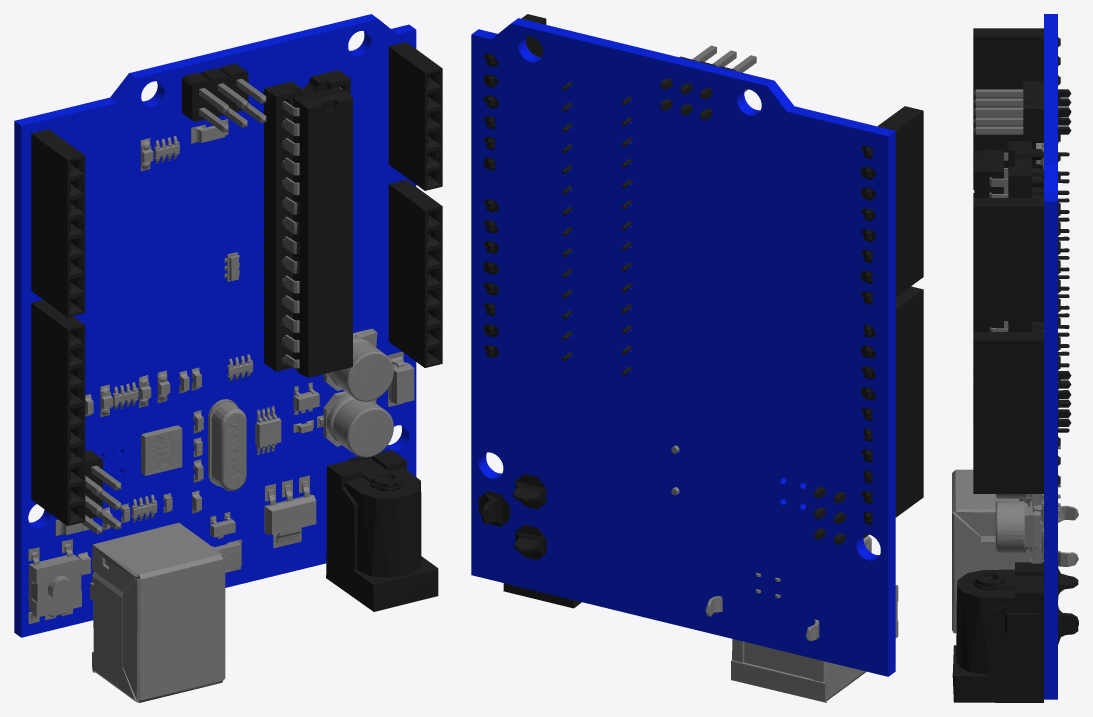
File: arduino.glb
3 views of the same model, side by side, from view 1: azimuth 30°, elevation 25°; view 2: azimuth 150°, elevation 25°; view 3: azimuth 270°, elevation 25° (orthographic). The views are drawn at different scales.
Visible parts, largest first — view 1: pcb, arduino.003, atmega, dc jack, pin header, pin header 4, pin header 2, ic socket, pin header 3, iscp header, arduino.012, arduino.002 (+8 smaller); view 2: pcb, pin header, pin header 2, arduino.003, dc jack, ic socket, arduino.004, iscp header, pin header 3, pin header 4, icsp header; view 3: dc jack, pin header 4, pcb, pin header 3, pin header 2, arduino.003, iscp header, ic socket, arduino.002, atmega, arduino.069, icsp header (+1 smaller).
Part boxes in pixels (box(x1,y1,x2,y2)): pcb: box(14, 14, 416, 637); arduino.003: box(90, 522, 225, 702); atmega: box(281, 87, 352, 377); dc jack: box(326, 450, 438, 611); pin header: box(31, 300, 85, 525); pin header 4: box(388, 179, 442, 367); pin header 2: box(31, 129, 85, 317); ic socket: box(263, 70, 350, 371); pin header 3: box(388, 42, 442, 190); iscp header: box(181, 63, 266, 132); arduino.012: box(208, 399, 246, 491); arduino.002: box(326, 393, 393, 457); pcb: box(471, 18, 895, 676); pin header: box(860, 286, 923, 524); pin header 2: box(860, 106, 923, 304); arduino.003: box(705, 535, 871, 702); dc jack: box(478, 474, 581, 608); ic socket: box(562, 81, 632, 375); arduino.004: box(744, 642, 813, 679); iscp header: box(660, 45, 756, 120); pin header 3: box(483, 14, 546, 170); pin header 4: box(483, 199, 498, 357); icsp header: box(814, 486, 868, 544); dc jack: box(952, 562, 1078, 702); pin header 4: box(973, 332, 1060, 493); pcb: box(1044, 14, 1057, 699); pin header 3: box(973, 198, 1060, 321); pin header 2: box(973, 28, 1060, 189); arduino.003: box(952, 469, 1078, 633); iscp header: box(973, 81, 1071, 142); ic socket: box(1008, 141, 1069, 432); arduino.002: box(995, 501, 1031, 553); atmega: box(974, 149, 1008, 331); arduino.069: box(1024, 498, 1043, 555); icsp header: box(1058, 373, 1071, 426).
Bounding box in the file's own units: 53.34 × 74.94 × 15.26.
